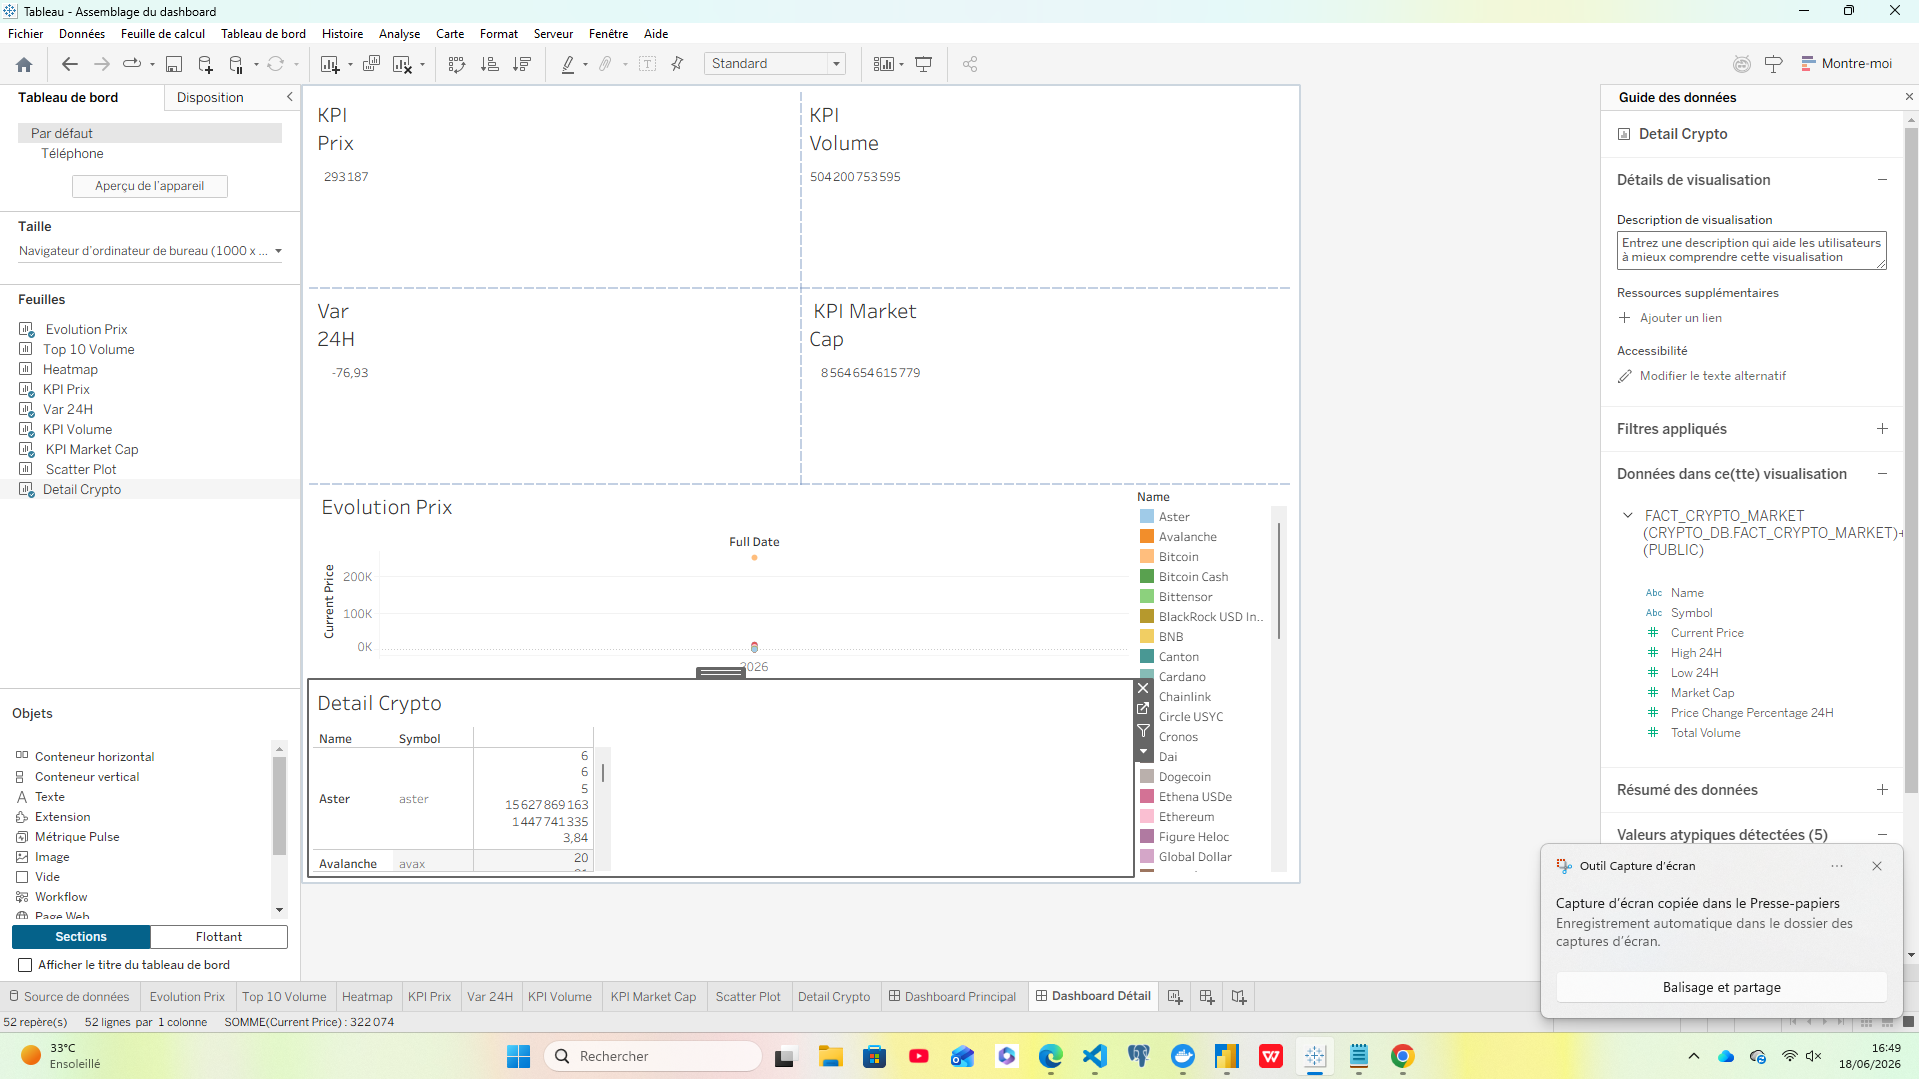

Layout of this report page (visuals, bound fields, positions):
{"tool":"tableau","page":{"name":"Dashboard Détail","canvas":[1000,800],"ordinal":0},"visuals":[{"type":"worksheet","title":"KPI Prix","mark":"Text","box":[8,8,492,196]},{"type":"worksheet","title":"KPI Volume","mark":"Text","box":[500,8,492,196]},{"type":"worksheet","title":"Var 24H","mark":"Text","box":[8,204,492,196]},{"type":"worksheet","title":" KPI Market Cap","mark":"Text","box":[500,204,492,196]},{"type":"worksheet","title":" Evolution Prix","mark":"Automatic","rows":["CURRENT_PRICE"],"cols":["FULL_DATE"],"box":[8,400,824,196]},{"type":"legend","title":" Evolution Prix","param":"[federated.1914bj50nye9wx14ybtc51y8ye3l].[none:NAME:nk]","box":[832,400,160,392]},{"type":"worksheet","title":"Detail Crypto","mark":"Text","rows":["NAME","SYMBOL"],"box":[8,596,824,196]}]}

Visuals, with their boxes on the page's 1000x800 design canvas (x1, y1, x2, y2). These are canvas units, not pixel positions in the 1919x1079 screenshot, which may show the page scaled, cropped or inside an application window:
"KPI Prix" worksheet (Text marks): select_region(8, 8, 500, 204)
"KPI Volume" worksheet (Text marks): select_region(500, 8, 992, 204)
"Var 24H" worksheet (Text marks): select_region(8, 204, 500, 400)
" KPI Market Cap" worksheet (Text marks): select_region(500, 204, 992, 400)
" Evolution Prix" worksheet: select_region(8, 400, 832, 596)
" Evolution Prix" legend: select_region(832, 400, 992, 792)
"Detail Crypto" worksheet (Text marks): select_region(8, 596, 832, 792)
